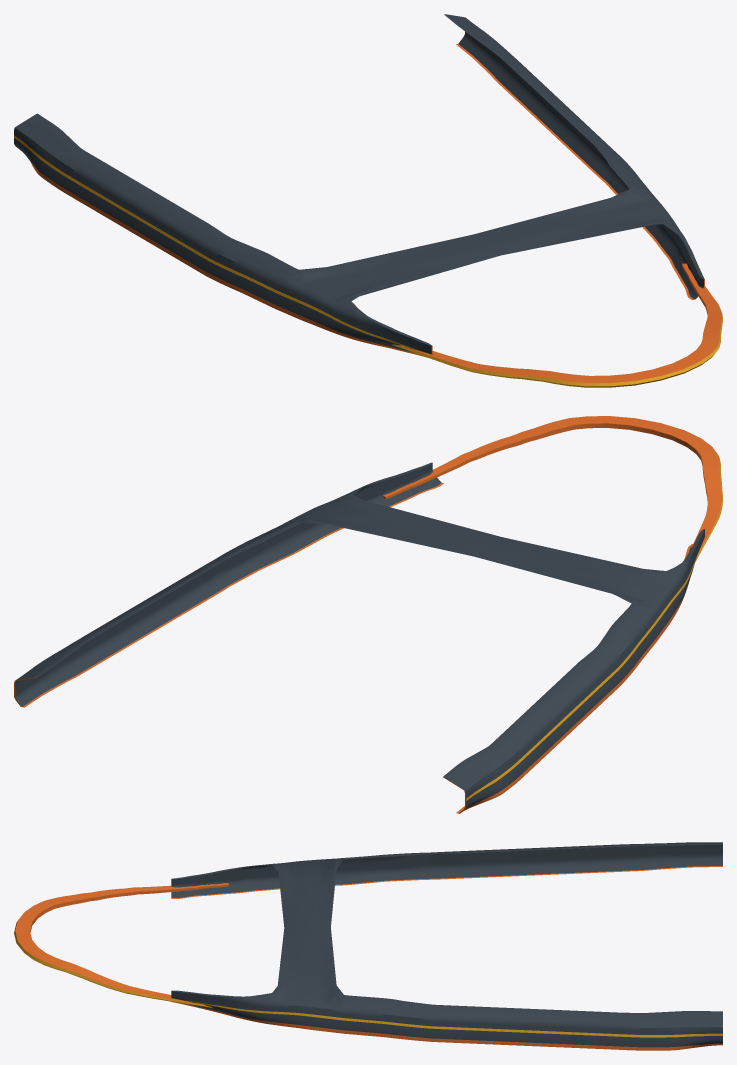
Rendered from bastion_armor_light.fbx.
3 renders of one model, top to bottom at view 1: azimuth 30°, elevation 25°; view 2: azimuth 150°, elevation 25°; view 3: azimuth 270°, elevation 25°, orthographic. The views are drawn at different scales.
Parts seen in each view (by area): view 1: Armor_Light; view 2: Armor_Light; view 3: Armor_Light.
Boxes of the visible parts, <box> form: Armor_Light: <box>14,14,722,387</box>; Armor_Light: <box>14,416,722,813</box>; Armor_Light: <box>14,842,722,1050</box>.
Size of the model in its own units: 269 by 19.96 by 427.
